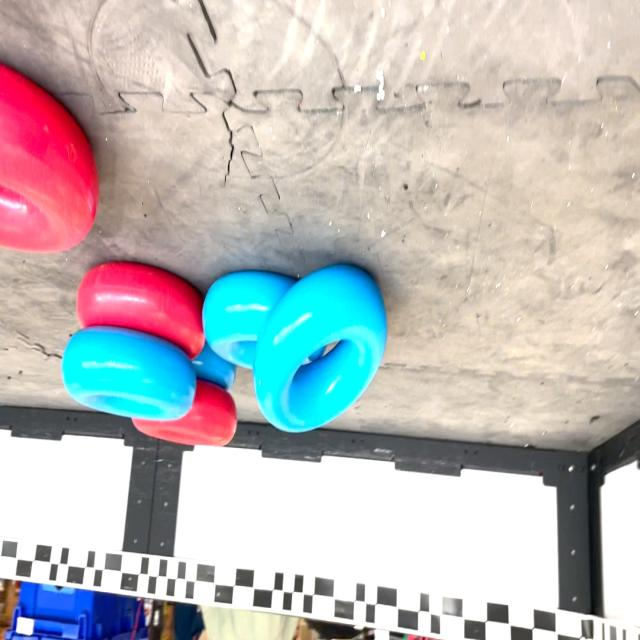Blue-Ring: (254, 264, 386, 431), (61, 327, 196, 420), (202, 271, 295, 369), (192, 342, 236, 389)
Red-Ring: (0, 64, 99, 253), (76, 262, 205, 358), (132, 380, 238, 447)
